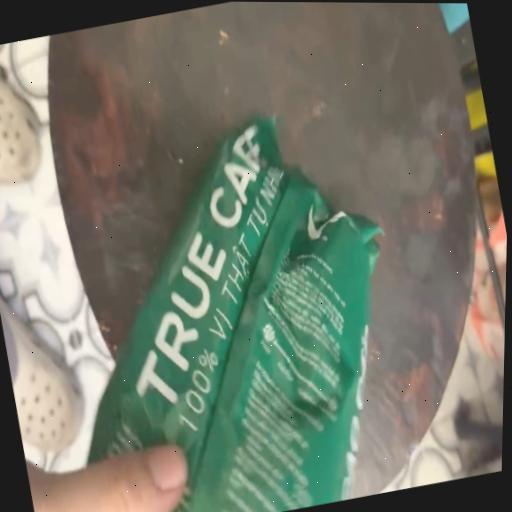cafe_xay: (90, 120, 380, 512)
